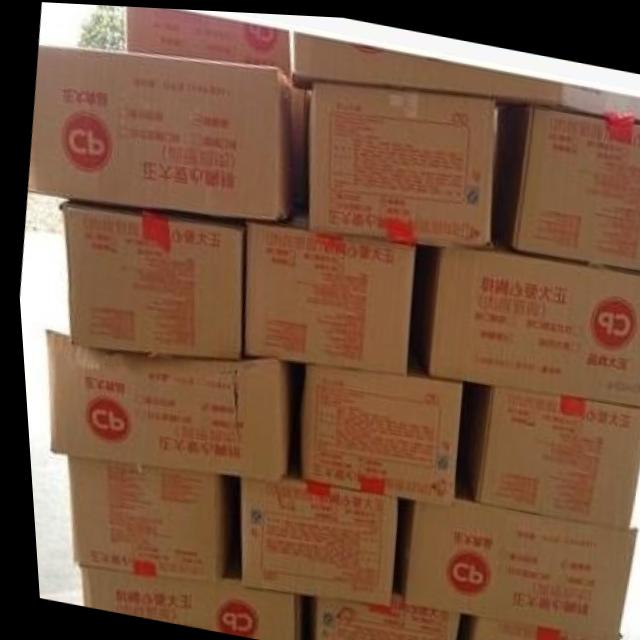box: (25, 44, 291, 220), (39, 329, 283, 480), (423, 245, 640, 400), (306, 74, 498, 245), (396, 495, 631, 634), (61, 199, 240, 359), (240, 211, 412, 371), (462, 380, 640, 519), (292, 360, 458, 501), (509, 97, 640, 265), (61, 456, 223, 580), (235, 476, 391, 602), (293, 30, 562, 99), (72, 564, 291, 640), (126, 5, 289, 78), (307, 590, 452, 640), (461, 612, 609, 640)
